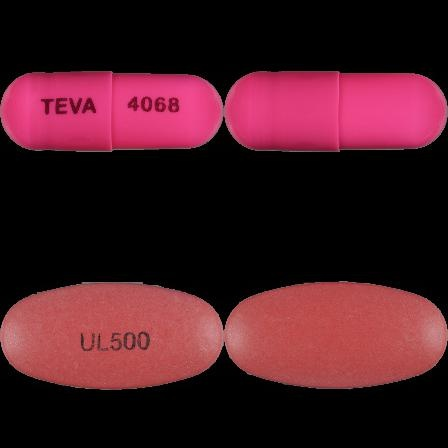53808-1075: (0, 0, 224, 224)
